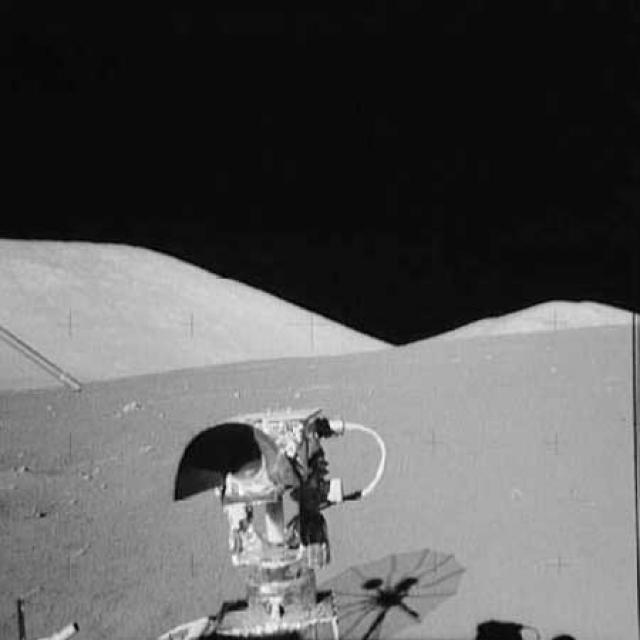artifact: (149, 400, 377, 638), (0, 324, 86, 400)
crater: (2, 432, 154, 481)
